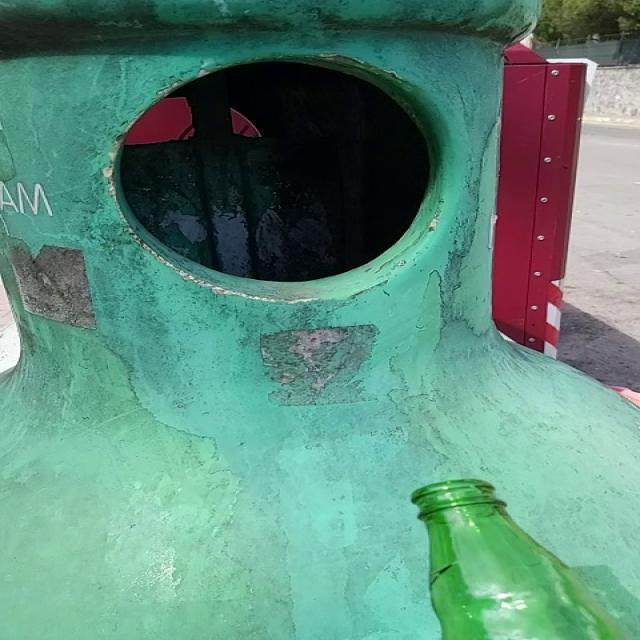glass: (412, 480, 627, 640)
